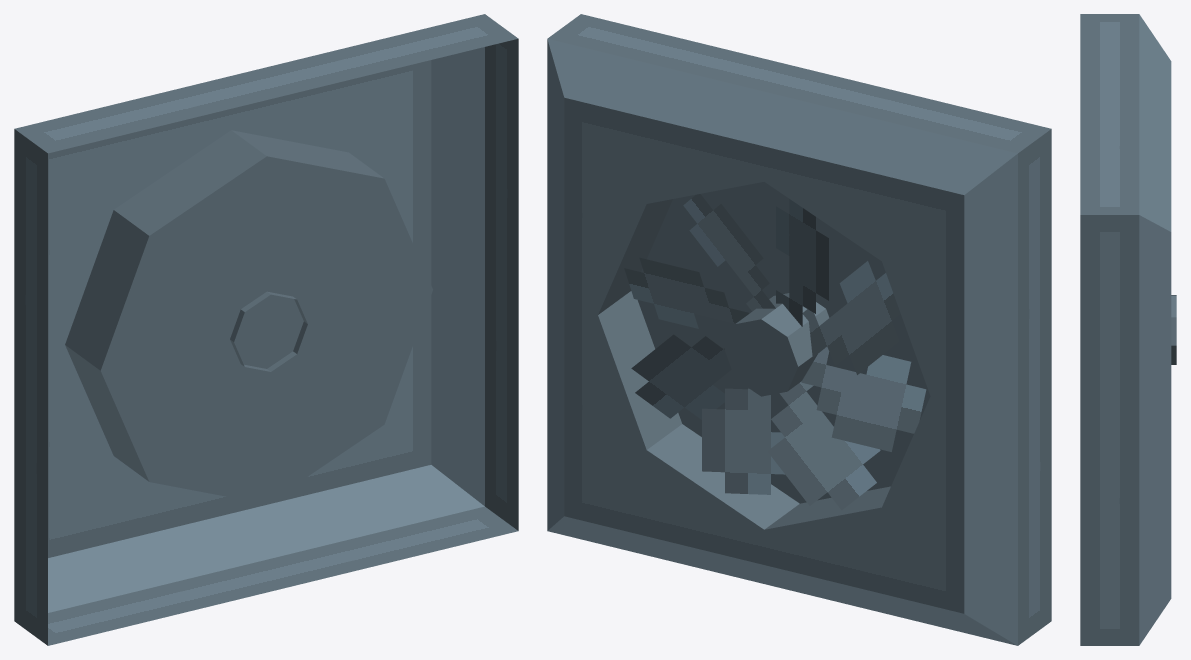
The model's file is Vent.fbx.
3 views of the same model, side by side, from view 1: azimuth 30°, elevation 25°; view 2: azimuth 150°, elevation 25°; view 3: azimuth 270°, elevation 25° (orthographic). The views are drawn at different scales.
Visible parts, largest first — view 1: Cube; view 2: Cube; view 3: Cube.
Boxes of the visible parts, x1=… form: Cube: x1=14, y1=14, x2=518, y2=645; Cube: x1=547, y1=14, x2=1051, y2=645; Cube: x1=1080, y1=14, x2=1176, y2=645.
Bounding box in the file's own units: 154 × 154 × 31.14.
Materials: 1 (1 with a texture image).
